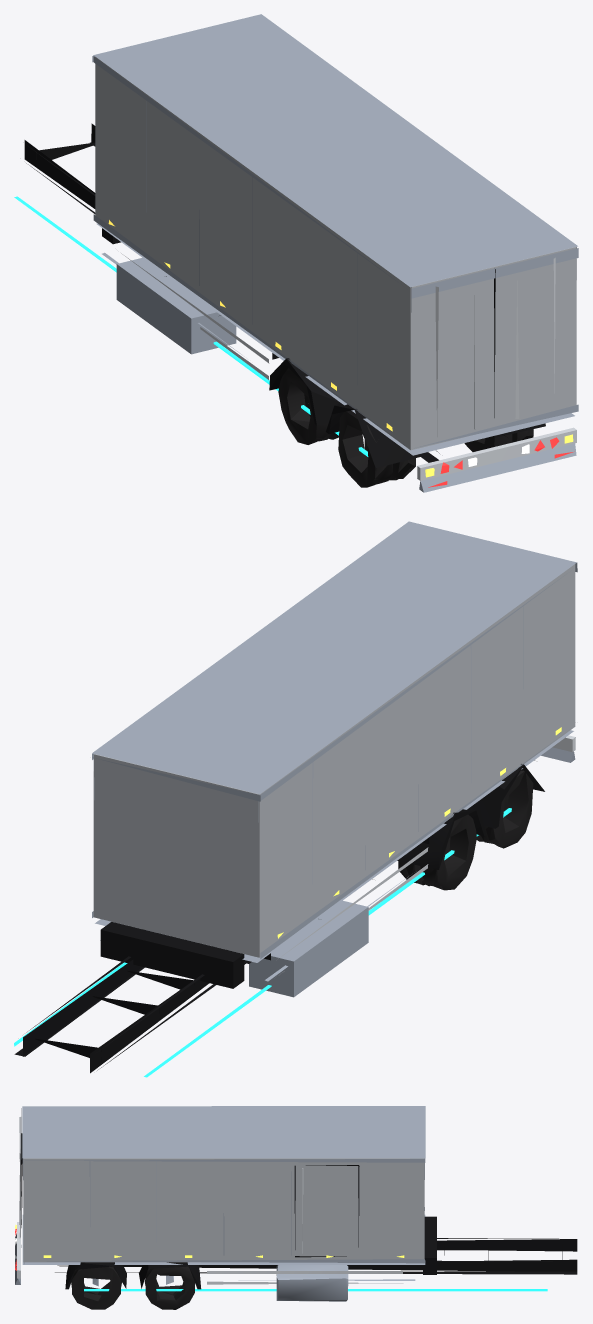
File: body_alubox_lod2.glb
The picture shows the model from 3 angles, top to bottom: view 1: azimuth 30°, elevation 25°; view 2: azimuth 150°, elevation 25°; view 3: azimuth 270°, elevation 25°; orthographic projection. The views are drawn at different scales.
Parts seen in each view (by area): view 1: lod2_box_alu, lod2_steel, lod2frame_steel, lod2_rubber_tire, lod2frame_plastic_black, lod2_chrome, lod2frame_lamp_cyan; view 2: lod2_box_alu, lod2_steel, lod2frame_plastic_black, lod2frame_steel, lod2_plastic_black, lod2_rubber_tire, lod2frame_lamp_cyan, lod2_chrome; view 3: lod2_box_alu, lod2_steel, lod2frame_plastic_black, lod2_rubber_tire, lod2frame_steel, lod2_chrome, lod2_plastic_black, lod2frame_lamp_cyan.
Part boxes in pixels (bbox=[...]): lod2_box_alu: bbox=[95, 57, 576, 450]; lod2_steel: bbox=[92, 14, 578, 492]; lod2frame_steel: bbox=[102, 252, 244, 356]; lod2_rubber_tire: bbox=[278, 368, 533, 487]; lod2frame_plastic_black: bbox=[24, 123, 545, 467]; lod2_chrome: bbox=[121, 253, 576, 480]; lod2frame_lamp_cyan: bbox=[14, 196, 368, 456]; lod2_box_alu: bbox=[93, 564, 575, 957]; lod2_steel: bbox=[92, 521, 577, 962]; lod2frame_plastic_black: bbox=[14, 764, 544, 1073]; lod2frame_steel: bbox=[100, 876, 408, 997]; lod2_plastic_black: bbox=[100, 760, 534, 988]; lod2_rubber_tire: bbox=[398, 770, 533, 890]; lod2frame_lamp_cyan: bbox=[14, 808, 511, 1077]; lod2_chrome: bbox=[278, 735, 575, 972]; lod2_box_alu: bbox=[23, 1158, 424, 1262]; lod2_steel: bbox=[15, 1106, 425, 1284]; lod2frame_plastic_black: bbox=[55, 1238, 577, 1289]; lod2_rubber_tire: bbox=[71, 1265, 194, 1309]; lod2frame_steel: bbox=[92, 1265, 415, 1301]; lod2_chrome: bbox=[17, 1117, 403, 1284]; lod2_plastic_black: bbox=[21, 1133, 436, 1274]; lod2frame_lamp_cyan: bbox=[84, 1289, 547, 1291].
Size of the model in its own units: 2.69 by 3.47 by 11.52.
9 materials, 1 textured.
